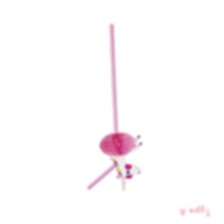drinking_straw: (81, 19, 152, 199)
